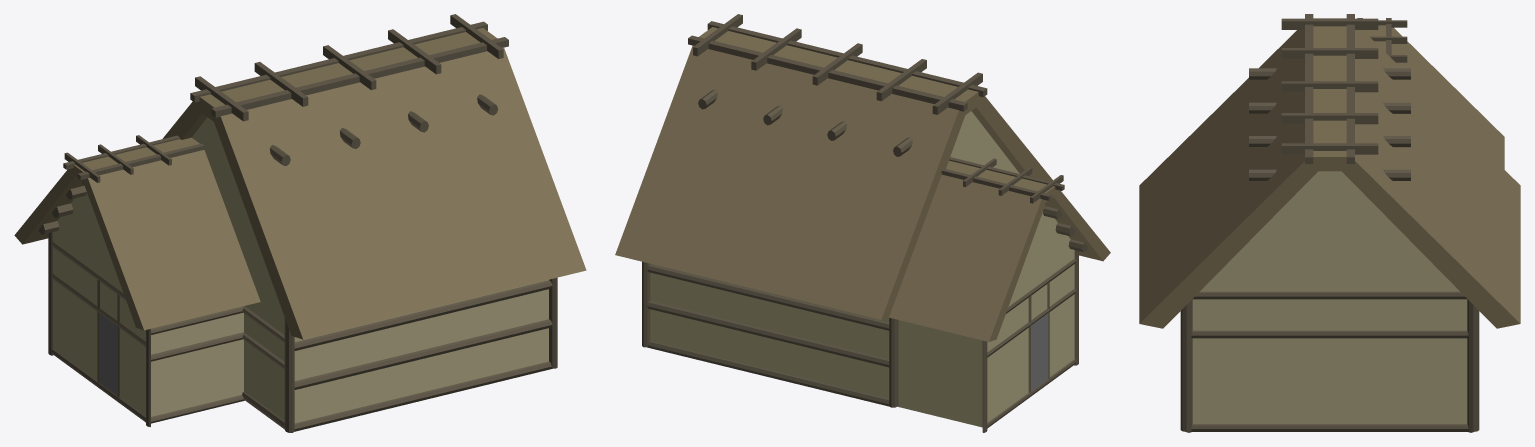
Rendered from Lake_Houses.fbx.
The picture shows the model from 3 angles, left to right: view 1: azimuth 30°, elevation 25°; view 2: azimuth 150°, elevation 25°; view 3: azimuth 270°, elevation 25°; orthographic projection. The views are drawn at different scales.
Visible parts, largest first — view 1: original_lake_house4; view 2: original_lake_house4; view 3: original_lake_house4.
Part boxes in pixels (x1,y1,x2,y2): original_lake_house4: (14,14,586,432); original_lake_house4: (615,14,1110,432); original_lake_house4: (1139,14,1520,432).
Bounding box in the file's own units: 1740 × 1188 × 1427.
